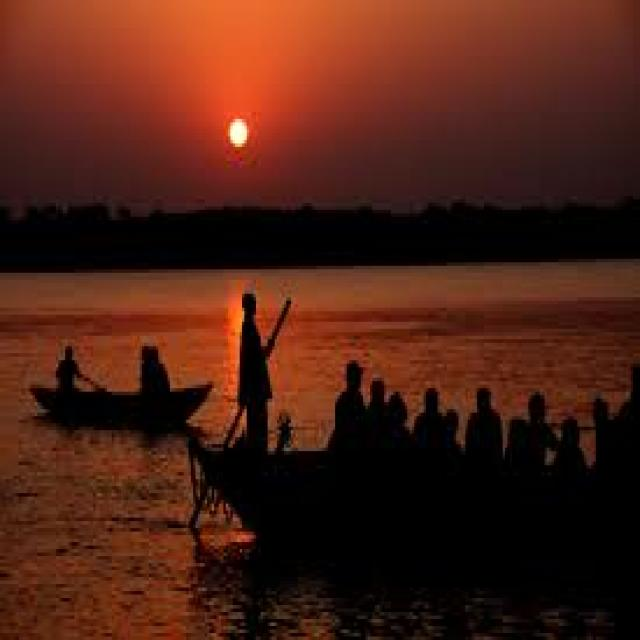Boat: (193, 413, 640, 623), (39, 357, 219, 426)
People: (221, 271, 305, 459), (502, 354, 562, 497), (585, 366, 640, 500), (323, 355, 379, 471), (457, 364, 509, 487), (412, 343, 455, 480), (372, 342, 412, 466), (117, 323, 174, 399), (47, 327, 91, 405), (552, 374, 581, 484)
